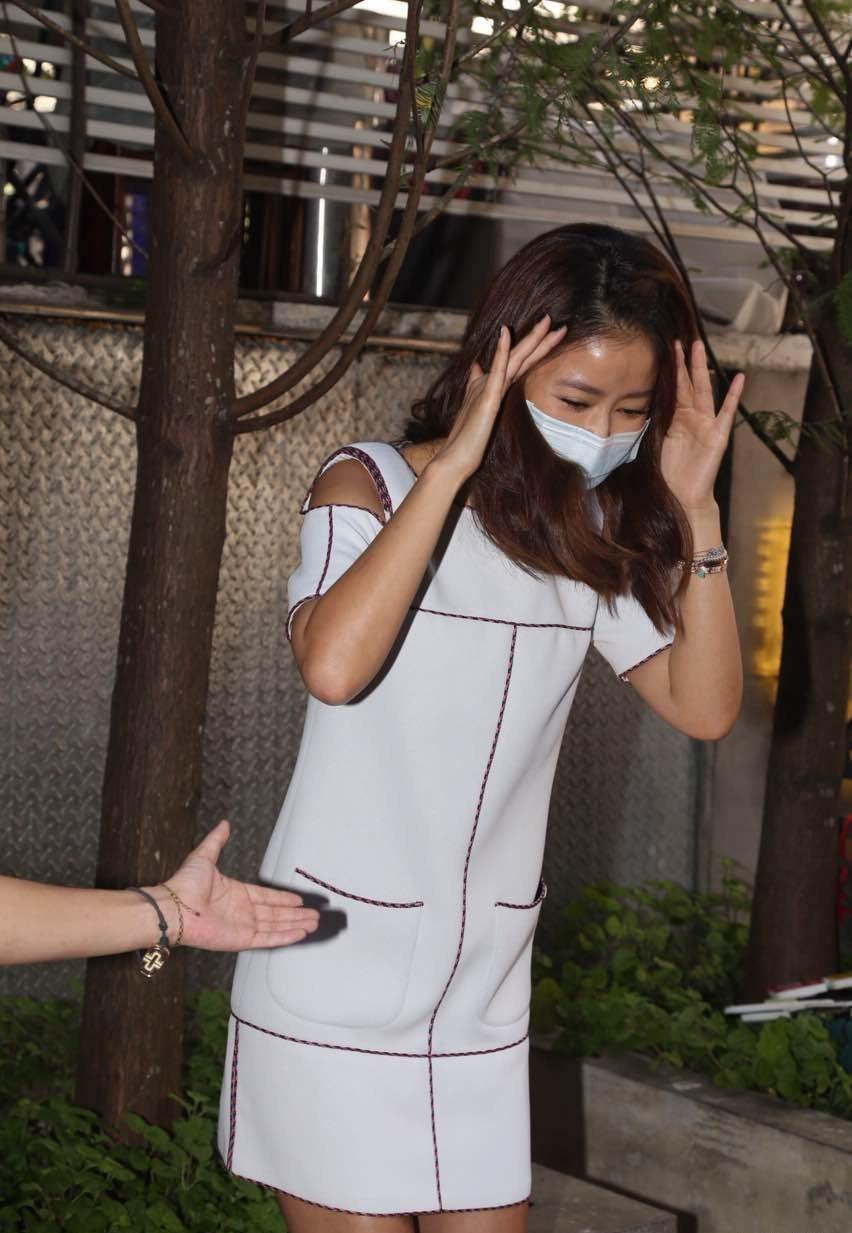OK: (521, 362, 643, 494)
